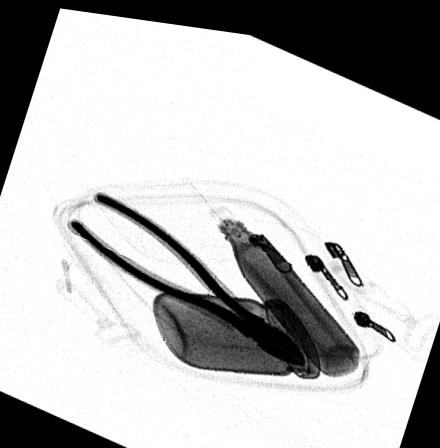Pliers: (66, 187, 307, 359)
